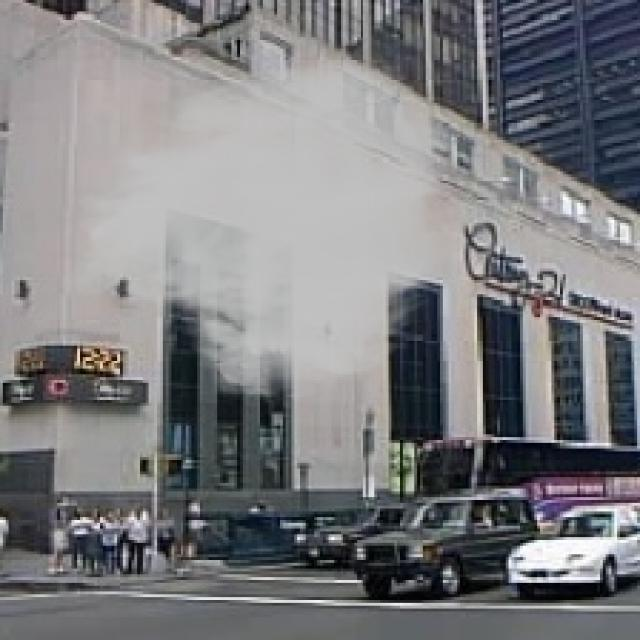Smoke: (60, 51, 463, 403)
